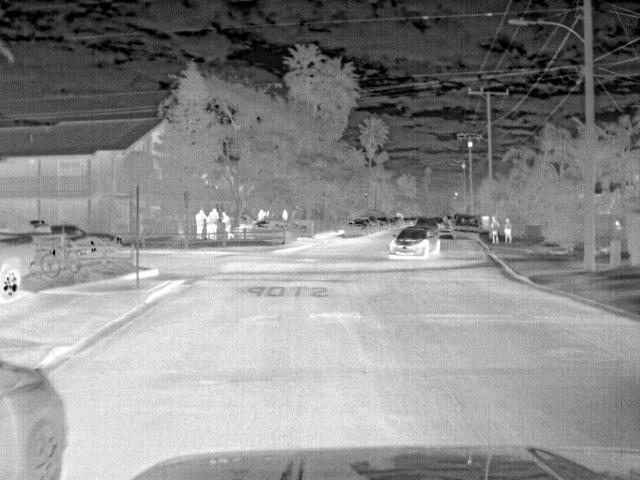car: (1, 364, 67, 479), (1, 230, 36, 299), (52, 223, 122, 257), (389, 224, 440, 259), (451, 215, 482, 236), (414, 215, 437, 235), (346, 221, 368, 237), (356, 218, 374, 234), (363, 214, 380, 228)
person: (499, 214, 516, 244), (487, 214, 502, 244), (220, 208, 235, 238), (208, 206, 221, 240), (194, 207, 206, 239), (255, 207, 268, 223), (280, 206, 292, 223)
